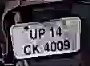0: (48, 40, 57, 53), (55, 39, 64, 52)
1: (48, 24, 55, 41)
4: (55, 25, 63, 39), (43, 40, 51, 54)
9: (63, 38, 71, 52)
C: (23, 44, 31, 55)
K: (30, 43, 40, 55)
P: (37, 27, 45, 40)
U: (28, 28, 37, 40)
